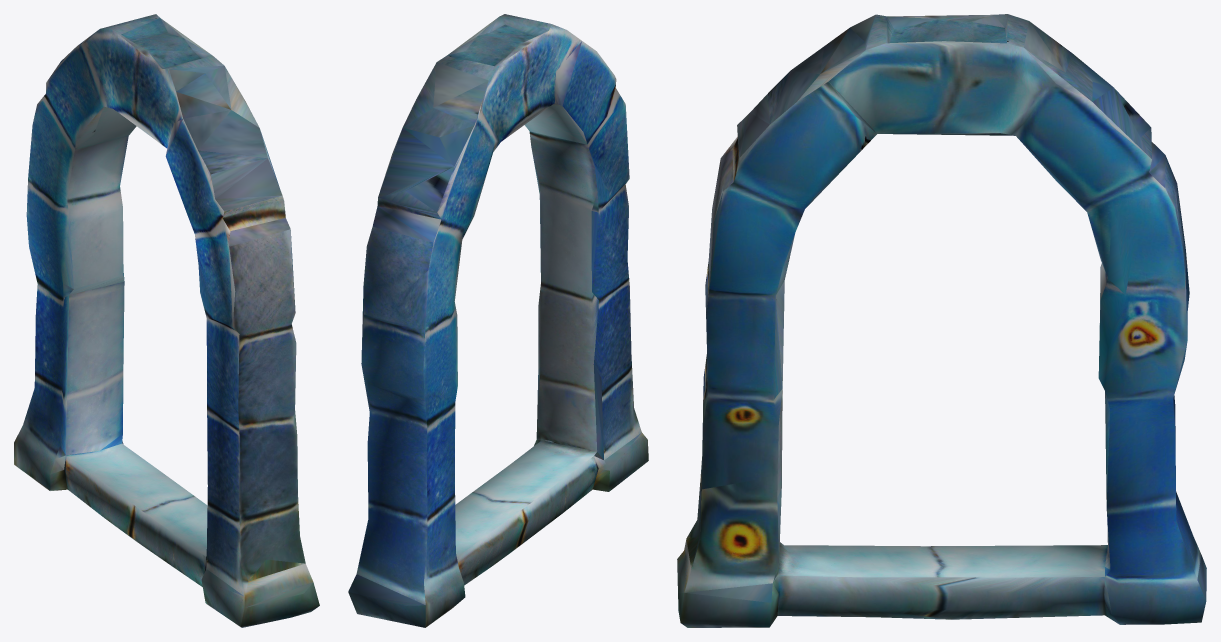
Rendered from Portal.fbx.
3 views of the same model, side by side, from view 1: azimuth 30°, elevation 25°; view 2: azimuth 150°, elevation 25°; view 3: azimuth 270°, elevation 25° (orthographic). The views are drawn at different scales.
Parts seen in each view (by area): view 1: high_poly; view 2: high_poly; view 3: high_poly.
Boxes of the visible parts, left/top/right/bottom form: high_poly: left=14, top=14, right=319, bottom=627; high_poly: left=348, top=14, right=648, bottom=627; high_poly: left=677, top=14, right=1206, bottom=627.
Size of the model in its own units: 17.43 by 100 by 82.65.
Materials: 1 (1 with a texture image).
